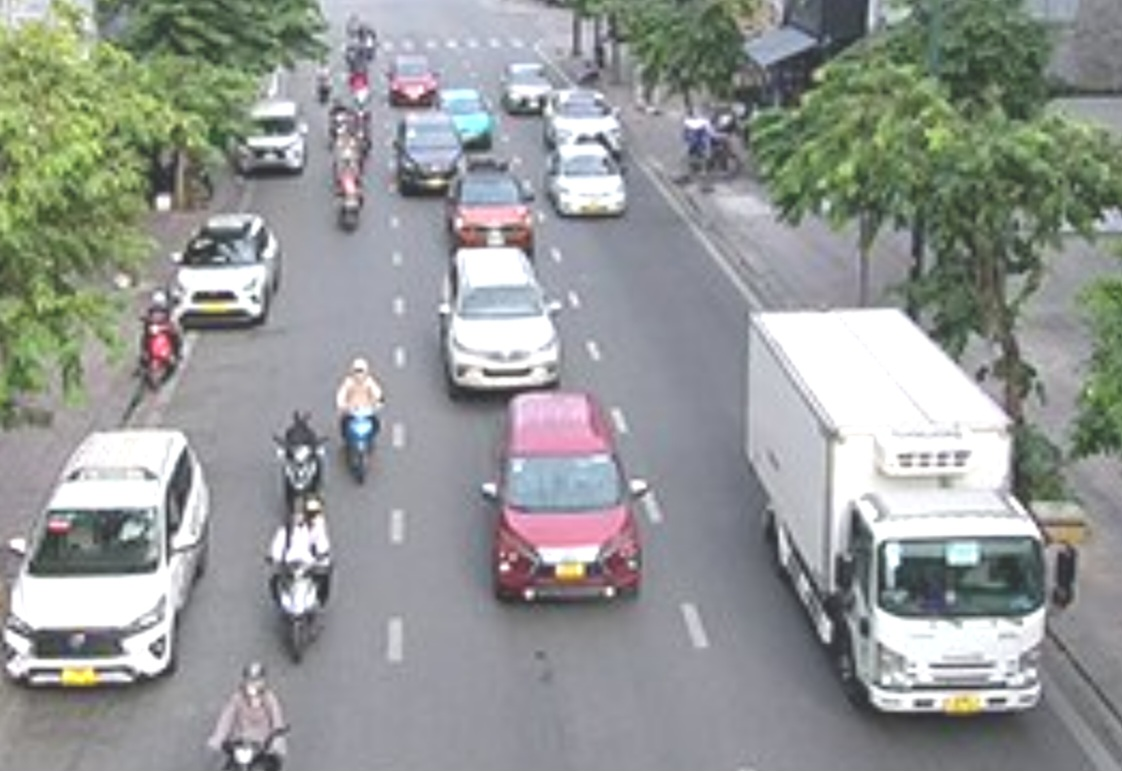car: (7, 430, 216, 683), (488, 396, 646, 606), (442, 249, 573, 394), (169, 213, 283, 331), (448, 176, 538, 248), (546, 145, 627, 217), (233, 104, 312, 176), (393, 117, 462, 194), (547, 91, 626, 152), (441, 87, 498, 148), (498, 62, 553, 117), (385, 52, 437, 106)
